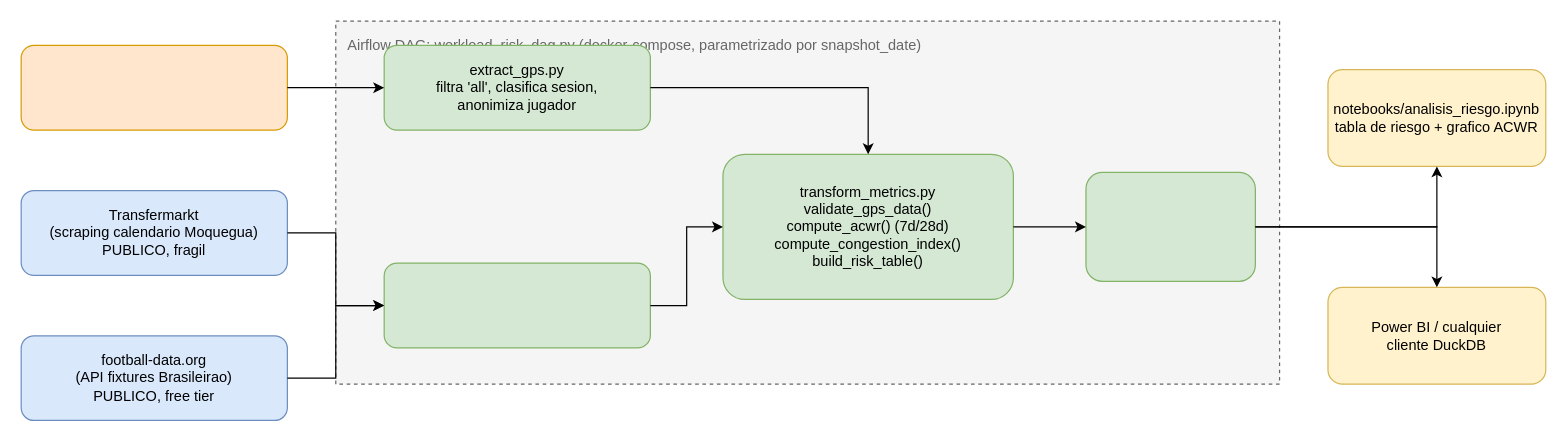
The diagram is 1567 pixels wide and 442 high, and some of its shapes have lost their labels. The shapes that lost their labels are listed below. From the top down, each one's centre as x and y in pixels, then its label:
At pixel 153 87: "CSV Catapult (GPS pretemporada) PRIVADO — data/raw, gitignored".
At pixel 1170 226: "load_duckdb.py DuckDB local (sql/schema.sql)".
At pixel 516 305: "extract_fixtures.py fetch API + scraping (con fallback a mock)".
